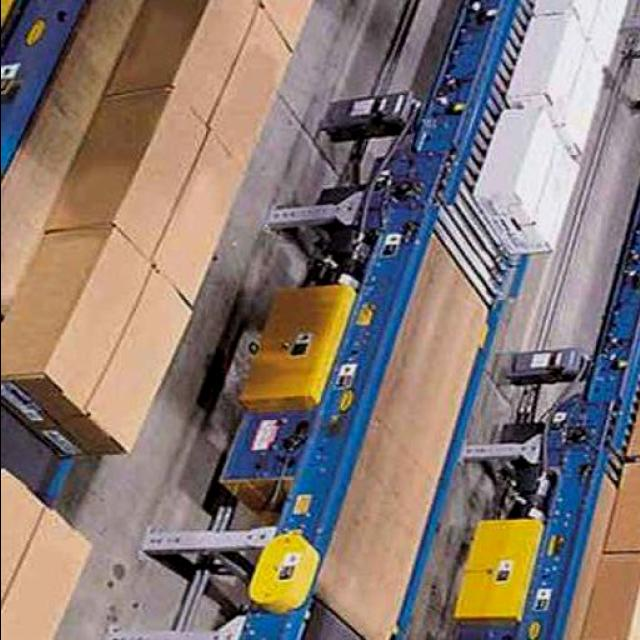conveyor: (317, 1, 537, 640)
